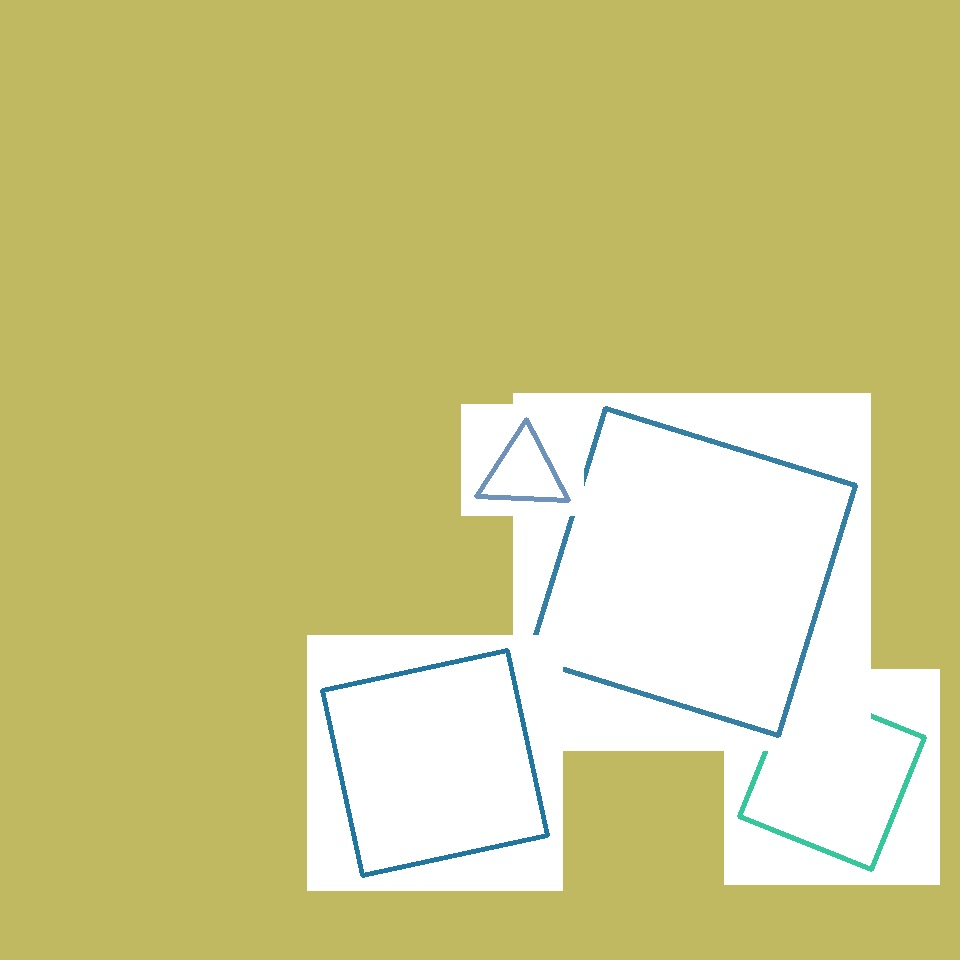circle: (455, 421, 618, 563), (127, 764, 247, 876), (478, 432, 570, 512)
square: (528, 408, 856, 736), (322, 650, 548, 876), (257, 554, 472, 768), (740, 684, 924, 869)
triangle: (584, 384, 736, 536)
